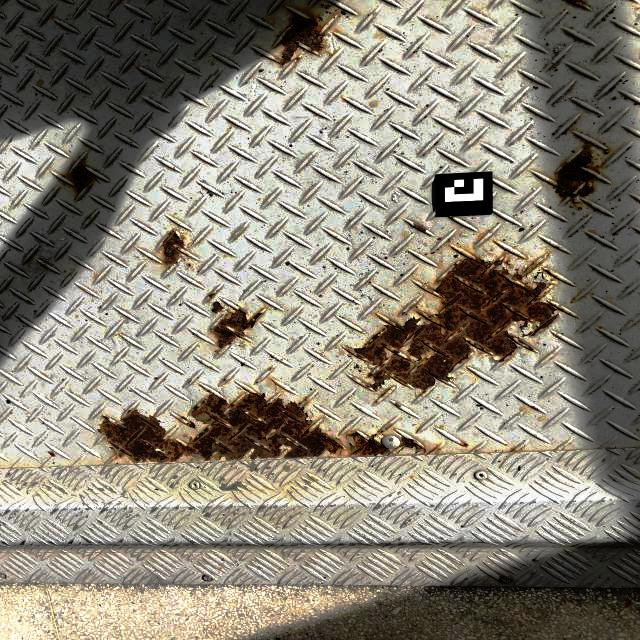Corrosion: (343, 252, 565, 397), (95, 387, 446, 464), (543, 142, 604, 213), (273, 10, 338, 69), (208, 301, 265, 350), (66, 157, 98, 196), (161, 228, 190, 271), (559, 0, 586, 10), (409, 221, 428, 234), (376, 389, 392, 400), (207, 289, 219, 301), (507, 447, 529, 452), (455, 442, 470, 448), (185, 260, 194, 268), (393, 402, 402, 409)
